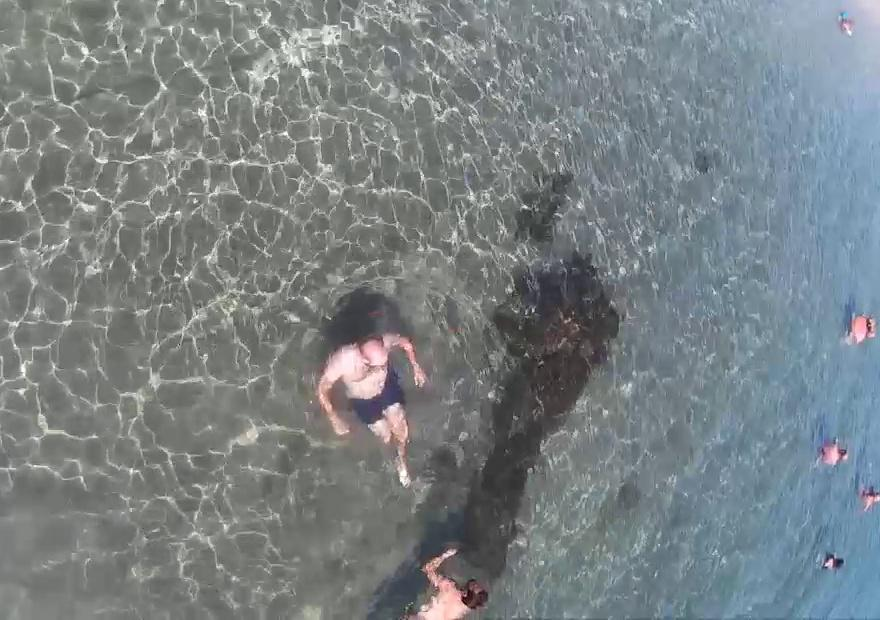swimmer: (304, 298, 444, 503), (800, 426, 851, 478), (816, 541, 862, 582), (830, 298, 864, 352), (854, 470, 879, 528), (0, 1, 1, 1)
